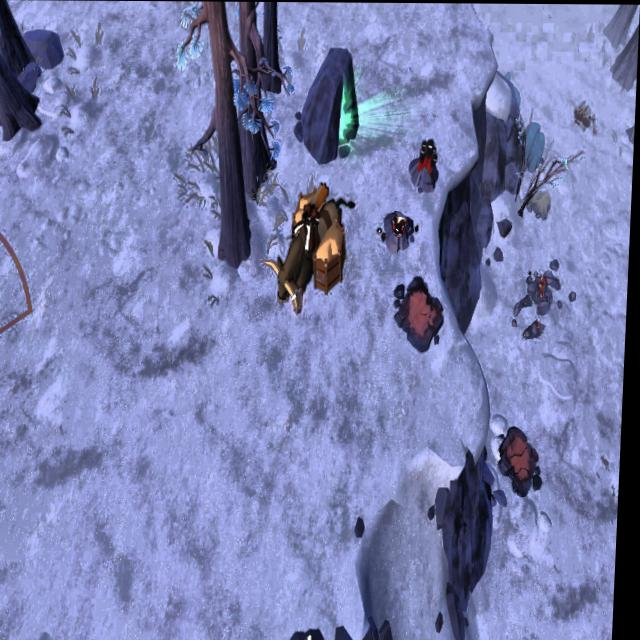ore_t5: (419, 131, 440, 176)
rock_t4: (521, 116, 548, 176)
